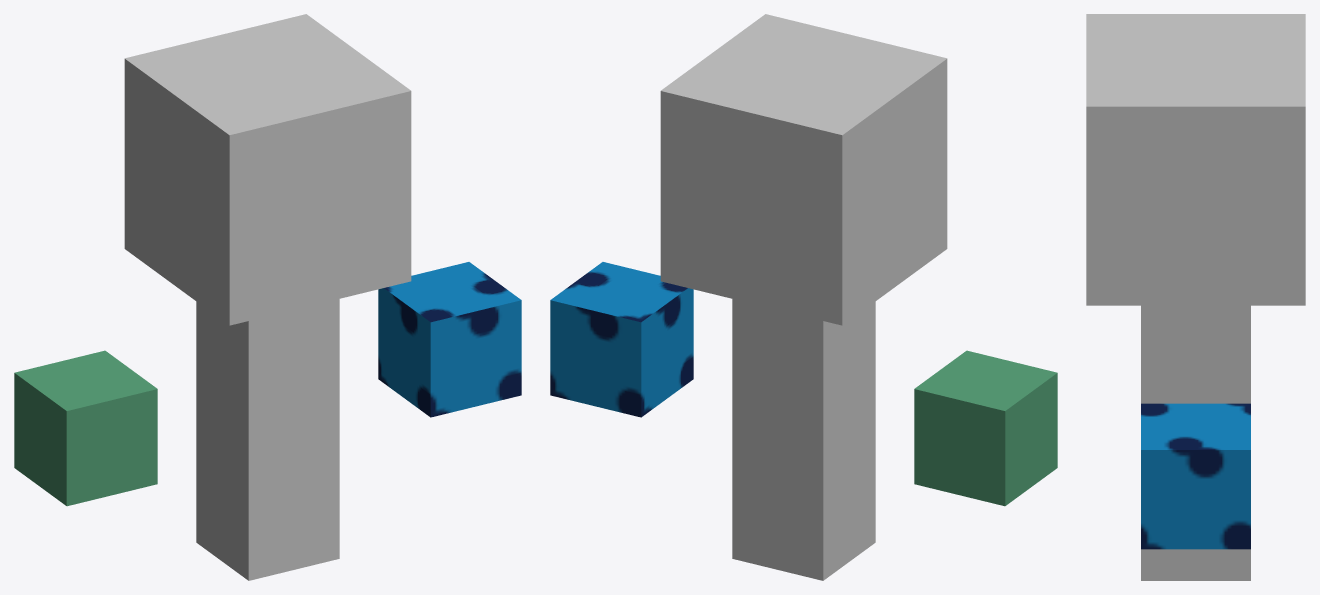
The model's file is NewPlayer.gltf.
3 views of the same model, side by side, from view 1: azimuth 30°, elevation 25°; view 2: azimuth 150°, elevation 25°; view 3: azimuth 270°, elevation 25° (orthographic). The views are drawn at different scales.
Parts seen in each view (by area): view 1: Cube.001, Cube, Cube.002, Cube.003; view 2: Cube.001, Cube, Cube.002, Cube.003; view 3: Cube.001, Cube.003, Cube.
Part boxes in pixels (x1=…): Cube.001: x1=124, y1=14, x2=411, y2=325; Cube: x1=196, y1=299, x2=339, y2=580; Cube.002: x1=14, y1=350, x2=157, y2=506; Cube.003: x1=378, y1=262, x2=521, y2=417; Cube.001: x1=660, y1=14, x2=947, y2=325; Cube: x1=732, y1=299, x2=875, y2=580; Cube.002: x1=914, y1=350, x2=1057, y2=506; Cube.003: x1=550, y1=262, x2=693, y2=417; Cube.001: x1=1086, y1=14, x2=1305, y2=305; Cube.003: x1=1141, y1=403, x2=1250, y2=549; Cube: x1=1141, y1=305, x2=1250, y2=580.
Bounding box in the file's own units: 2 × 2 × 0.8.
